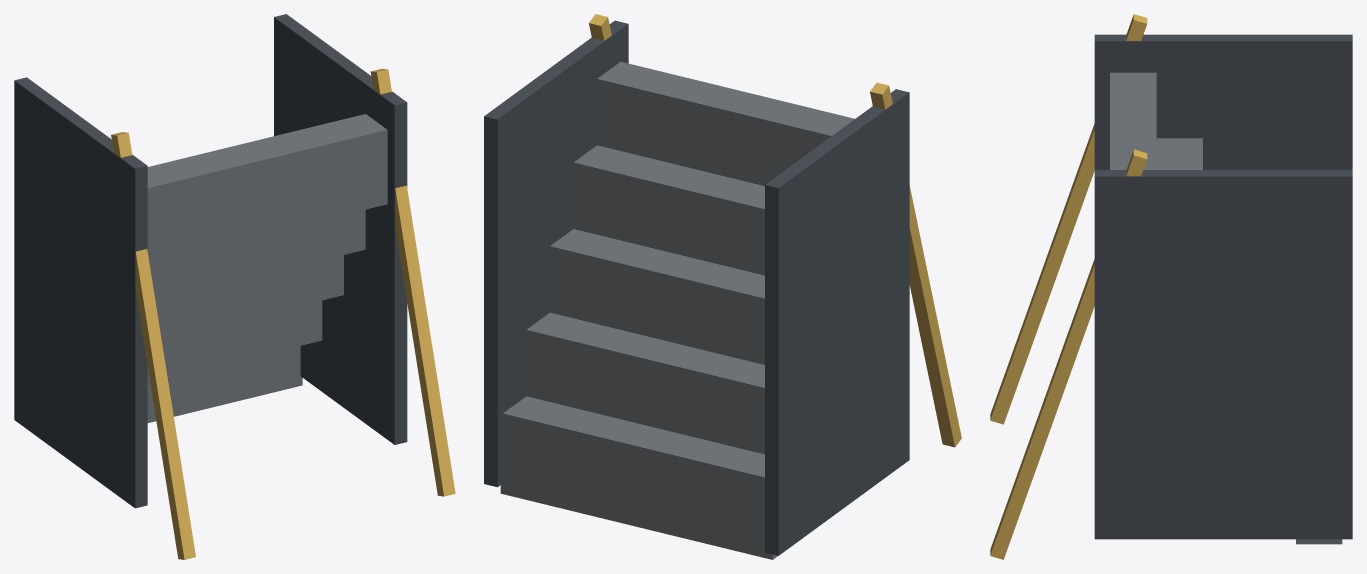
Rendered from environment-staircase-segment.glb.
The picture shows the model from 3 angles, left to right: view 1: azimuth 30°, elevation 25°; view 2: azimuth 150°, elevation 25°; view 3: azimuth 270°, elevation 25°; orthographic projection. The views are drawn at different scales.
Parts seen in each view (by area): view 1: world; view 2: world; view 3: world.
Boxes of the visible parts, x1,y1,x2,y2 form: world: (14, 14, 455, 559); world: (484, 14, 961, 559); world: (990, 14, 1352, 559).
Size of the model in its own units: 1.3 by 1.73 by 1.4.
